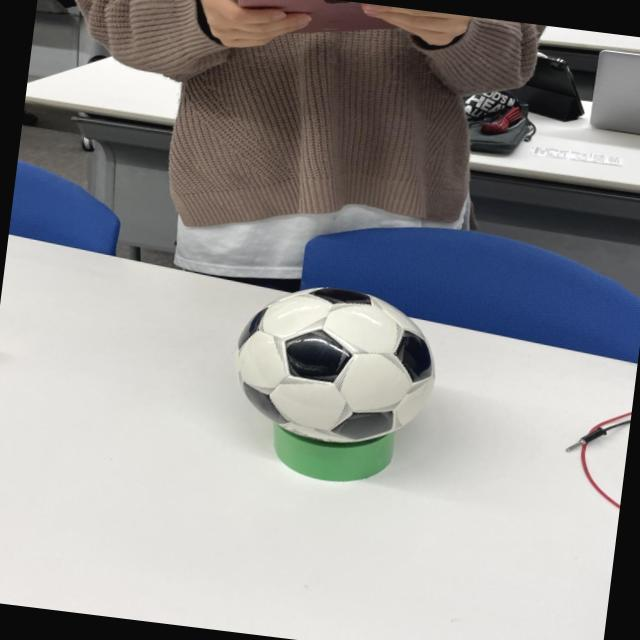Soccer Ball: (225, 276, 450, 455)
